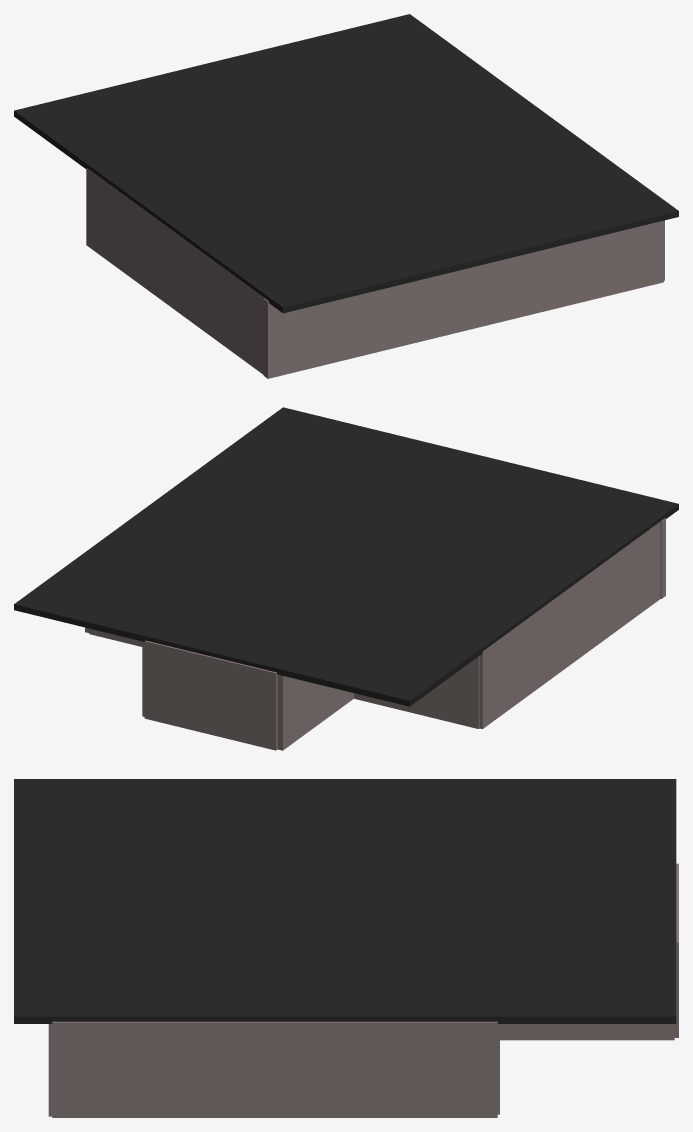
File: mapadeposito.fbx
The picture shows the model from 3 angles, top to bottom: view 1: azimuth 30°, elevation 25°; view 2: azimuth 150°, elevation 25°; view 3: azimuth 270°, elevation 25°; orthographic projection. The views are drawn at different scales.
Parts seen in each view (by area): view 1: Cube.006, Pared.002, Pared.001; view 2: Cube.006, Pared.001, Pared.007, Pared.006, Pared.003; view 3: Cube.006, Pared, Pared.005, Pared.007.
Boxes of the visible parts, left/top/right/bottom form: Cube.006: left=14, top=14, right=678, bottom=313; Pared.002: left=263, top=220, right=663, bottom=378; Pared.001: left=86, top=168, right=266, bottom=374; Cube.006: left=14, top=407, right=678, bottom=706; Pared.001: left=479, top=521, right=660, bottom=728; Pared.007: left=144, top=640, right=277, bottom=750; Pared.006: left=277, top=674, right=353, bottom=750; Pared.003: left=354, top=656, right=479, bottom=728; Cube.006: left=14, top=779, right=676, bottom=1023; Pared: left=52, top=1021, right=497, bottom=1117; Pared.005: left=500, top=1024, right=674, bottom=1040; Pared.007: left=674, top=863, right=678, bottom=1037.
Bounding box in the file's own units: 2197 × 429 × 2580.
Materials: 79 (52 with a texture image).
